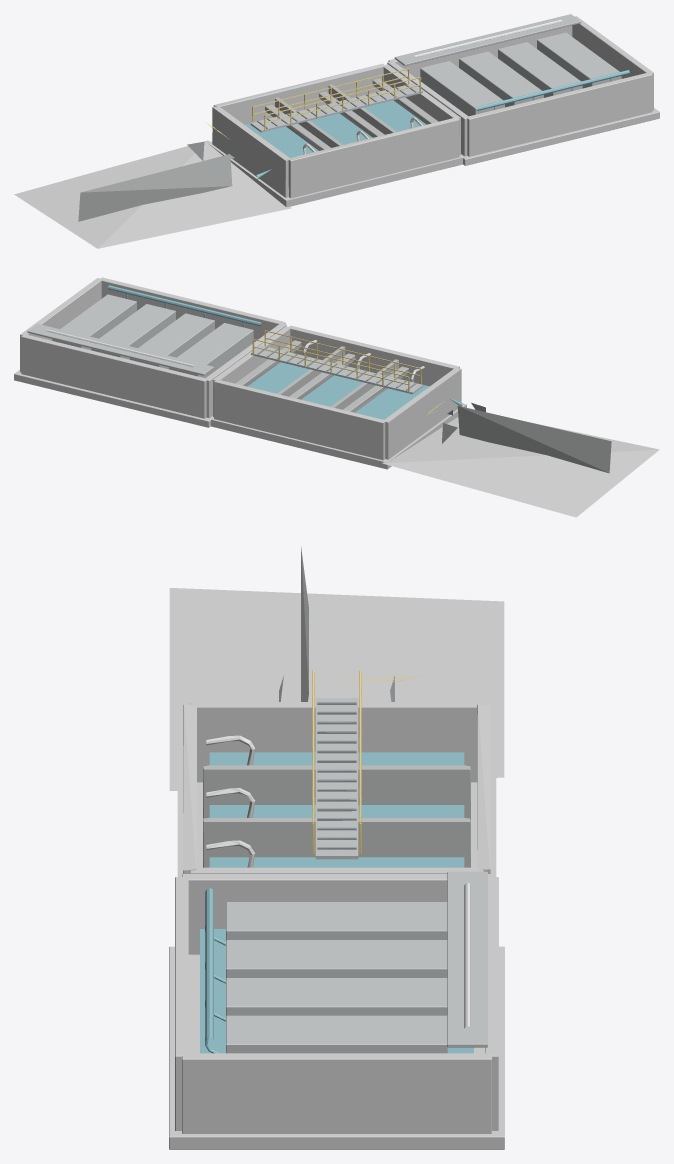
3 views of the same model, one above another, from view 1: azimuth 30°, elevation 25°; view 2: azimuth 150°, elevation 25°; view 3: azimuth 270°, elevation 25° (orthographic). The views are drawn at different scales.
Parts seen in each view (by area): view 1: render-batch-6, render-batch-4, render-batch-3, render-batch-0, render-batch-8, render-batch-7, render-batch-1; view 2: render-batch-6, render-batch-4, render-batch-3, render-batch-0, render-batch-8, render-batch-7, render-batch-1; view 3: render-batch-6, render-batch-4, render-batch-3, render-batch-0, render-batch-1, render-batch-7, render-batch-8.
Boxes of the visible parts, x1,y1,x2,y2 form: render-batch-6: (14,16,659,248); render-batch-4: (187,14,621,185); render-batch-3: (78,78,437,221); render-batch-0: (244,70,629,179); render-batch-8: (204,68,421,139); render-batch-7: (303,19,562,154); render-batch-1: (257,84,416,128); render-batch-6: (14,277,659,517); render-batch-4: (27,294,485,443); render-batch-3: (235,340,611,473); render-batch-0: (108,285,463,419); render-batch-8: (252,330,444,414); render-batch-7: (46,329,424,382); render-batch-1: (257,346,416,390); render-batch-6: (169,588,504,1149); render-batch-4: (226,675,487,1053); render-batch-3: (203,547,470,867); render-batch-0: (200,752,473,1053); render-batch-1: (317,702,356,849); render-batch-7: (206,735,470,1028); render-batch-8: (312,670,420,854).
Size of the model in its own units: 39.77 by 4.38 by 10.3.
